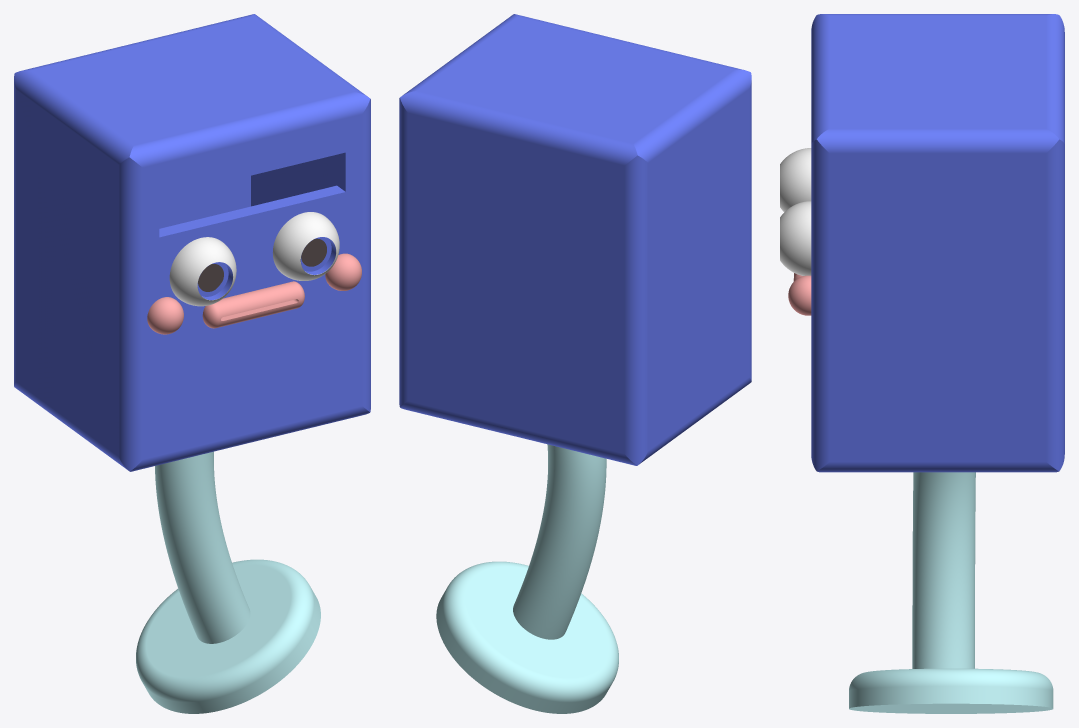
The model's file is mailbox.gltf.
3 renders of one model, left to right at view 1: azimuth 30°, elevation 25°; view 2: azimuth 150°, elevation 25°; view 3: azimuth 270°, elevation 25°, orthographic. The views are drawn at different scales.
Size of the model in its own units: 2.08 by 4.93 by 1.94.
